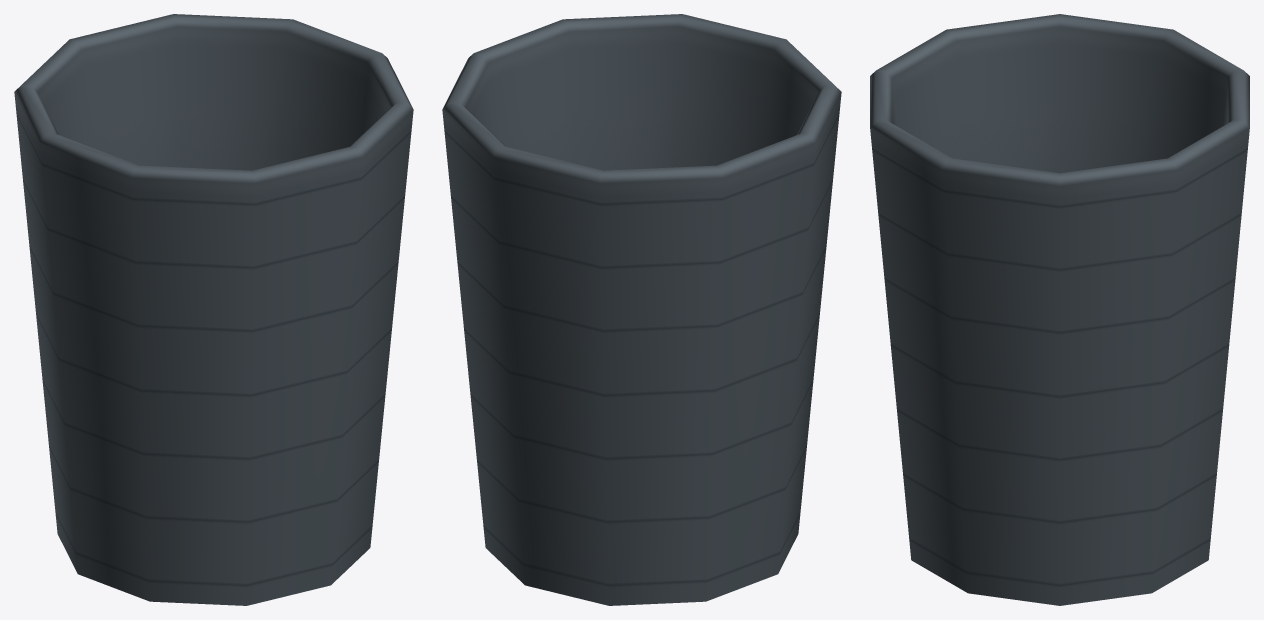
Rendered from TrashCan.fbx.
The picture shows the model from 3 angles, left to right: view 1: azimuth 30°, elevation 25°; view 2: azimuth 150°, elevation 25°; view 3: azimuth 270°, elevation 25°; orthographic projection.
Parts seen in each view (by area): view 1: Trashcan; view 2: Trashcan; view 3: Trashcan.
Boxes of the visible parts, x1=… form: Trashcan: x1=14, y1=14, x2=413, y2=605; Trashcan: x1=442, y1=14, x2=841, y2=605; Trashcan: x1=870, y1=14, x2=1249, y2=605.
Size of the model in its own units: 32.17 by 39.48 by 30.59.
1 material, 1 textured.
